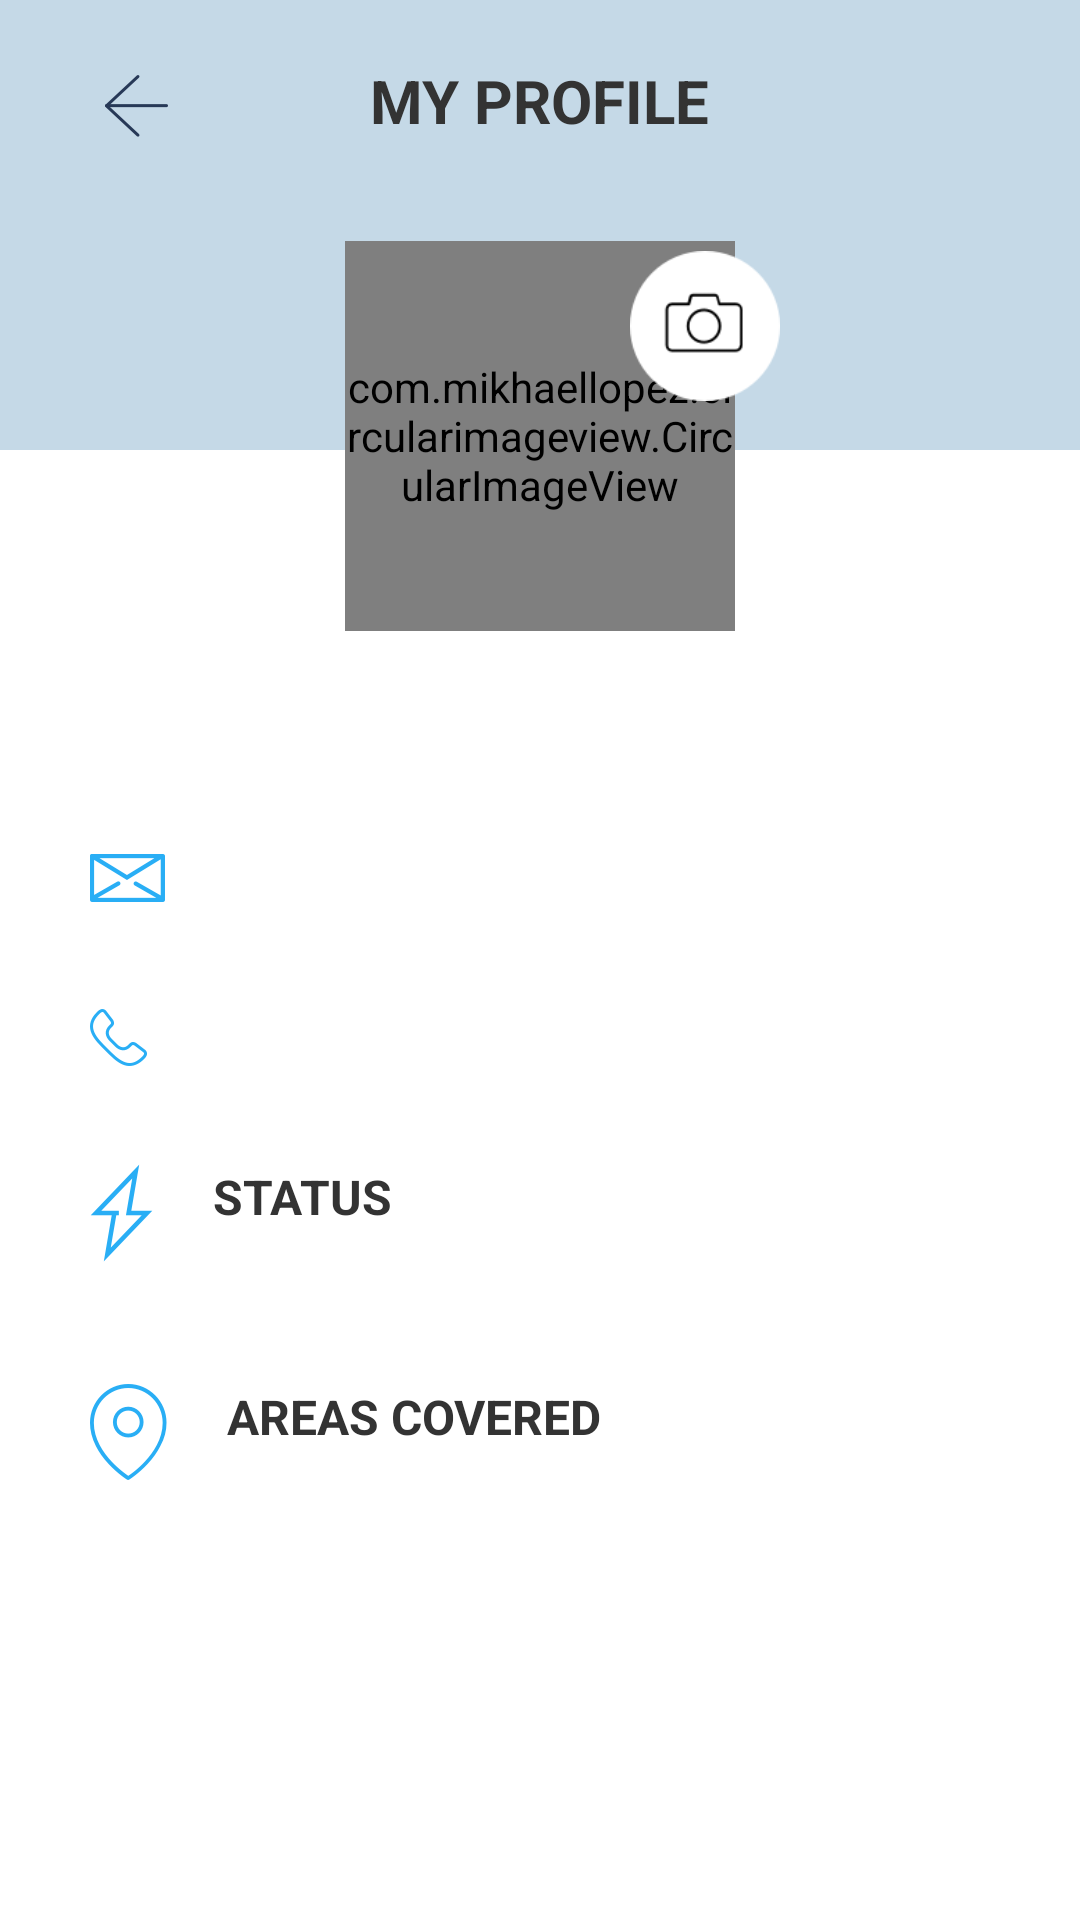

Locate icon controls on the screen. Image size 1080px×1920px, boxes as (x1, y1, x2, y2).
back: (105, 75, 168, 137)
email: (90, 854, 165, 902)
location: (90, 1384, 167, 1480)
phonenumber: (90, 1009, 147, 1066)
